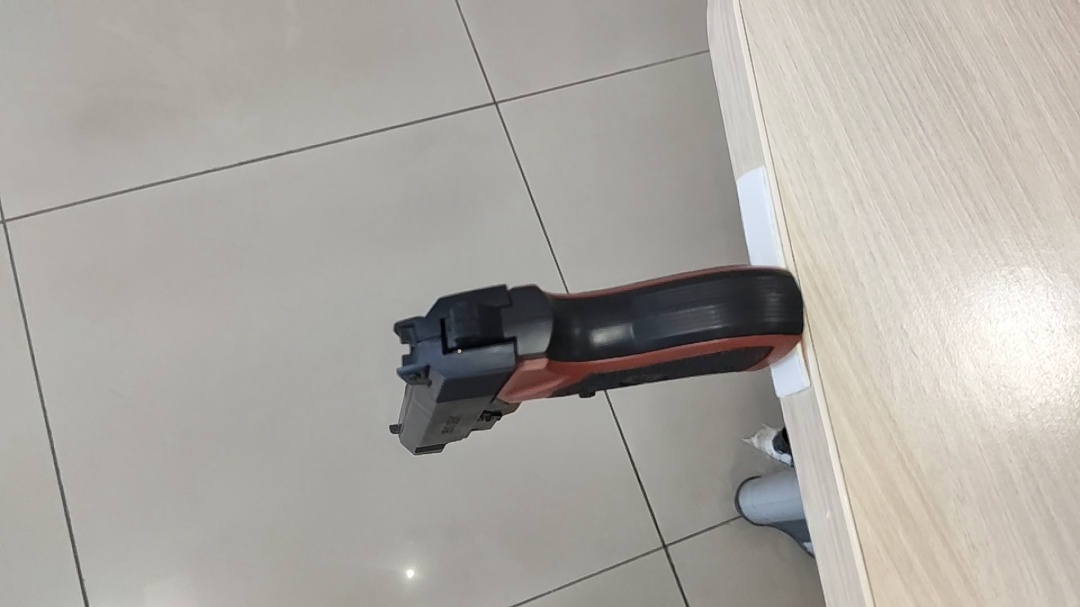gun: (385, 261, 812, 461)
